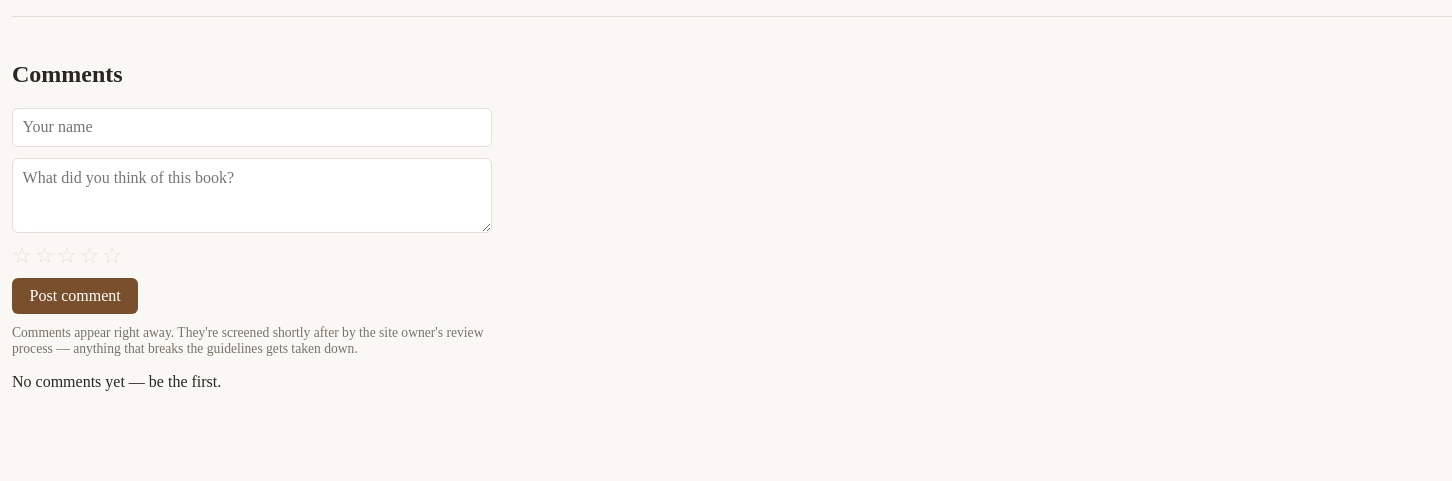
Test: CommentSection › shows a generic error notice when posting fails
Expected: the text "No comments yet — be the first." is shown, 12,373 -> 221,390
In the field with placeholder "Your name": (252, 127) 12,108 -> 492,147, type "Alice"
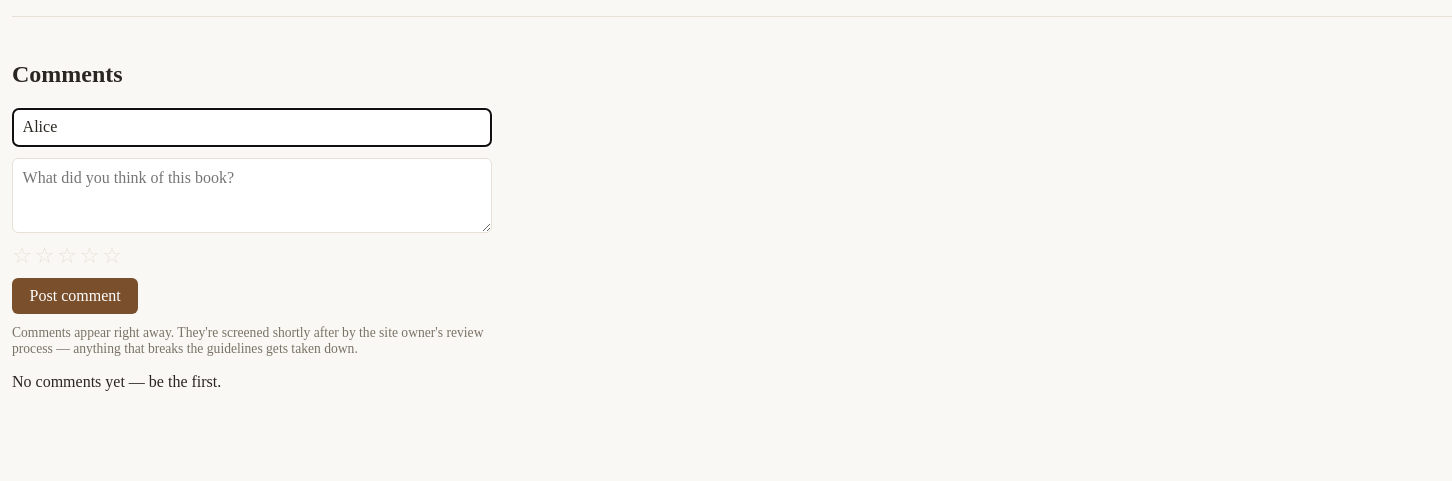
In the text box with placeholder "What did you think of this book?": (252, 196) 12,158 -> 492,233, type "hello"
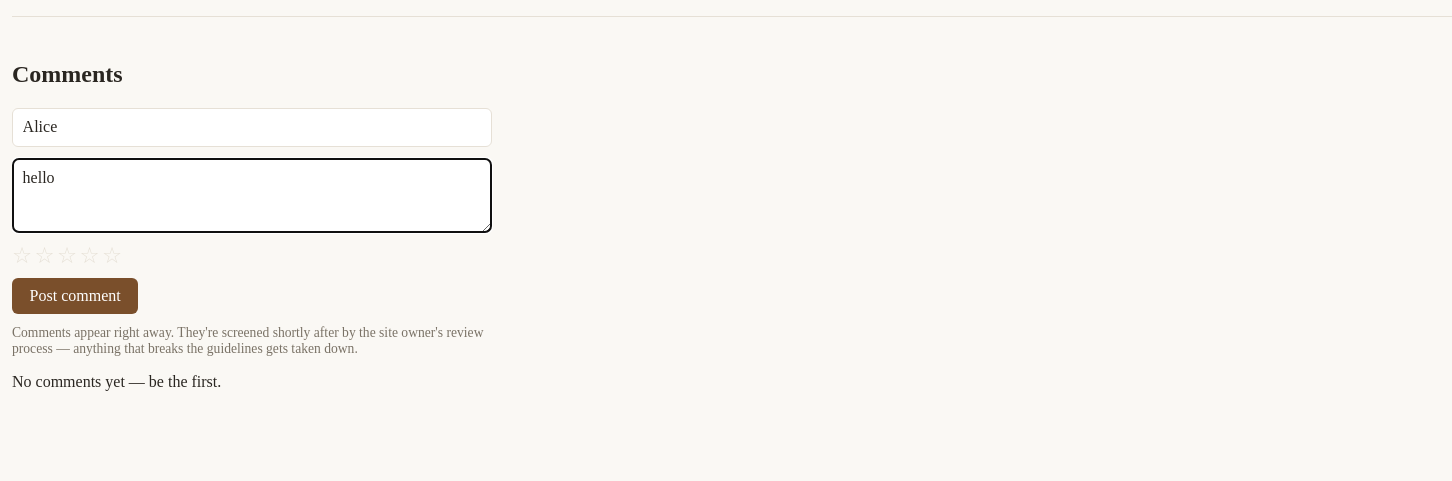
Click the button "Post comment": (75, 296) 12,278 -> 138,314
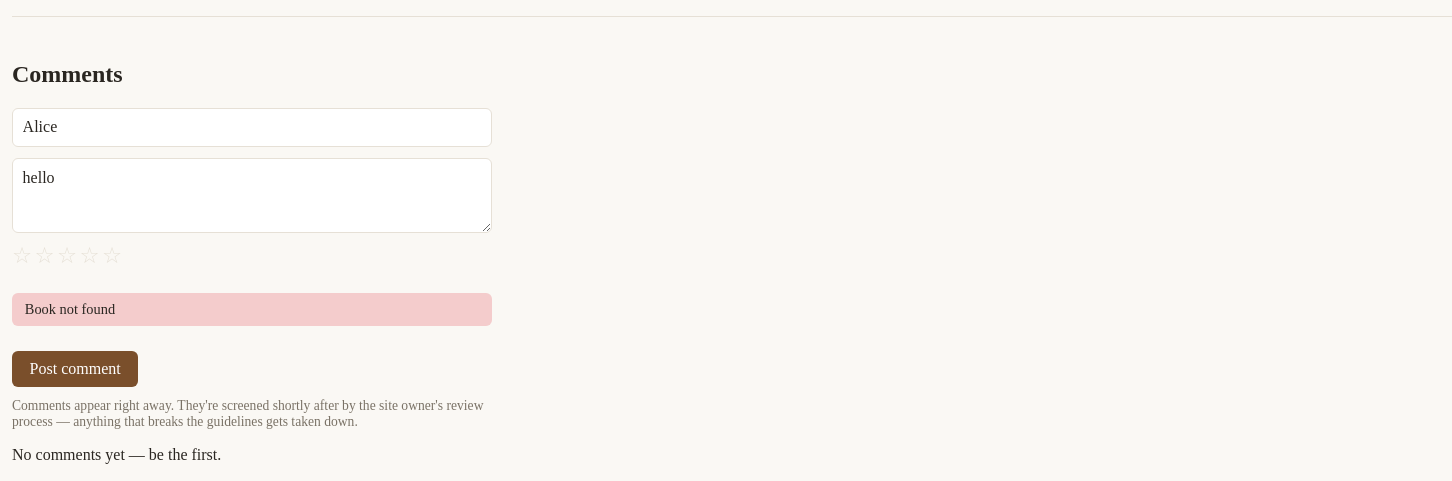
Now the text "Book not found" is shown, box 12,292 -> 492,326
